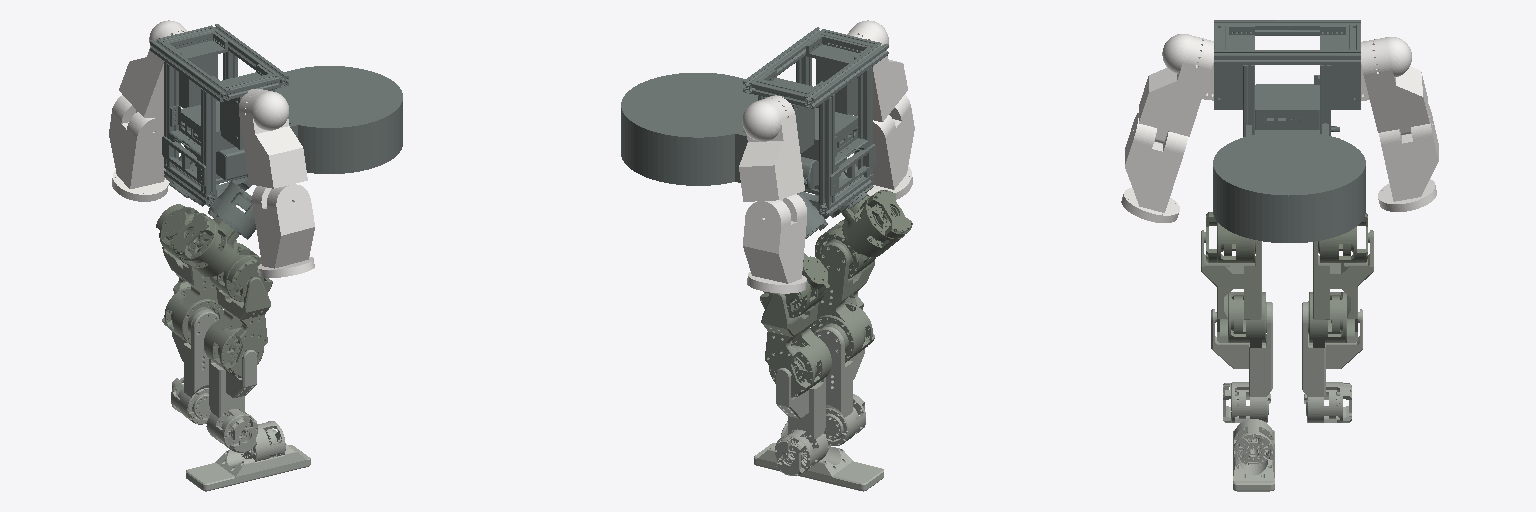
--- Facts derived from the render (not from the file) ---
3 views of the same robot in one strip: view 1: azimuth 30°, elevation 25°; view 2: azimuth 150°, elevation 25°; view 3: azimuth 270°, elevation 25° (orthographic).
Model our_robot_251119 with 26 links and 25 joints (20 revolute, 5 fixed), rooted at base, posed every joint at zero.
Links seen in each view (by area): view 1: base, arm_right_upper_arm, arm_right_fore_arm, leg_right_hip_pitch, leg_right_ankle_roll, arm_left_fore_arm, leg_right_knee_pitch, leg_left_knee_pitch, leg_right_hip_roll, leg_left_hip_pitch, arm_left_upper_arm, leg_right_hip_yaw (+3 smaller); view 2: base, arm_left_upper_arm, arm_left_fore_arm, leg_left_hip_pitch, leg_left_knee_pitch, leg_right_hip_pitch, leg_right_knee_pitch, leg_right_hip_roll, arm_right_fore_arm, leg_right_ankle_roll, arm_right_upper_arm, leg_left_hip_yaw (+2 smaller); view 3: base, arm_right_upper_arm, arm_left_upper_arm, leg_left_hip_pitch, leg_right_hip_pitch, leg_left_knee_pitch, leg_right_knee_pitch, arm_right_fore_arm, arm_left_fore_arm, leg_right_ankle_roll, leg_right_hip_yaw, leg_left_hip_yaw (+2 smaller).
Link boxes in pixels (x1,y1,x2,y2): base: (150,24,402,239); arm_right_upper_arm: (239,89,307,188); arm_right_fore_arm: (252,184,314,268); leg_right_hip_pitch: (204,277,270,377); leg_right_ankle_roll: (186,421,310,491); arm_left_fore_arm: (109,95,165,188); leg_right_knee_pitch: (206,350,257,452); leg_left_knee_pitch: (171,310,218,424); leg_right_hip_roll: (172,213,239,276); leg_left_hip_pitch: (162,247,223,344); arm_left_upper_arm: (119,20,187,117); leg_right_hip_yaw: (210,243,272,301); base: (621,27,888,238); arm_left_upper_arm: (739,95,804,201); arm_left_fore_arm: (743,194,806,283); leg_left_hip_pitch: (761,293,831,397); leg_left_knee_pitch: (775,368,828,475); leg_right_hip_pitch: (810,242,874,362); leg_right_knee_pitch: (816,327,865,445); leg_right_hip_roll: (842,190,912,257); arm_right_fore_arm: (854,95,914,189); leg_right_ankle_roll: (754,421,883,491); arm_right_upper_arm: (847,20,907,121); leg_left_hip_yaw: (760,253,829,317); base: (1213,20,1365,242); arm_right_upper_arm: (1139,34,1213,143); arm_left_upper_arm: (1361,37,1429,134); leg_left_hip_pitch: (1308,230,1373,347); leg_right_hip_pitch: (1201,230,1266,347); leg_left_knee_pitch: (1302,302,1362,422); leg_right_knee_pitch: (1211,302,1272,422); arm_right_fore_arm: (1125,113,1187,212); arm_left_fore_arm: (1379,106,1438,201); leg_right_ankle_roll: (1233,419,1274,491); leg_right_hip_yaw: (1206,212,1255,262); leg_left_hip_yaw: (1318,213,1367,262).
Bounding box of the posed robot: 0.4913 × 0.5397 × 0.7937 m (x, y, z).
17 mesh visuals loaded from 22 distinct referenced files (17 binary STL); not drawn: 5 (reference not matched to a file when rendering).

URDF robot description (our_robot_251119):
<?xml version="1.0" ?>
<!-- Generated using onshape-to-robot -->
<!-- Onshape https://cad.onshape.com/documents/b79563c6b118af5153e16b95/w/07852d0b8411373f3cccadf1/e/af8d9cc5bcfd9d9f97125859 -->
<!-- robot name="my-robot2" -->
<robot name="our_robot_251119">
  <!-- Link base -->
  <link name="base">
    <inertial>
      <origin xyz="0.0301256 0.000805373 0.658389" rpy="0 0 0"/>
      <mass value="4.42875"/>
      <inertia ixx="0.0542572" ixy="-0.000418288" ixz="-0.000518312" iyy="0.0707136" iyz="1.73031e-05" izz="0.0573367"/>
    </inertial>
    <!-- Part base_parts -->
    <collision>
      <origin xyz="-6.93889e-18 7.58942e-18 0.71" rpy="-1.13243e-14 -5.13117e-16 -1.5708"/>
      <geometry>
        <box size="0.15 0.14 0.23"/>
      </geometry>
    </collision>
    <visual>
      <origin xyz="0.0301256 0.000805373 0.658389" rpy="0 -0 0"/>
      <geometry>
        <mesh filename="package://assets/merged/base_visual.stl"/>
      </geometry>
      <material name="base_parts_material">
        <color rgba="0.487065 0.525828 0.516644 0.886298"/>
      </material>
    </visual>
  </link>
  <!-- Frame trunk (dummy link + fixed joint) -->
  <link name="trunk">
    <origin xyz="0 0 0" rpy="0 -0 0"/>
    <inertial>
      <origin xyz="0 0 0" rpy="0 0 0"/>
      <mass value="1e-9"/>
      <inertia ixx="0" ixy="0" ixz="0" iyy="0" iyz="0" izz="0"/>
    </inertial>
  </link>
  <joint name="trunk_frame" type="fixed">
    <origin xyz="-0.00025 2.39394e-17 0.7205" rpy="-5.13117e-16 1.13243e-14 -1.20616e-15"/>
    <parent link="base"/>
    <child link="trunk"/>
    <axis xyz="0 0 0"/>
  </joint>
  <!-- Link imu_2 -->
  <link name="imu_2">
    <inertial>
      <origin xyz="3.03577e-18 9.6171e-19 0.0025" rpy="0 0 0"/>
      <mass value="0.00197704"/>
      <inertia ixx="1.11441e-07" ixy="-4.0275e-38" ixz="0" iyy="4.06118e-08" iyz="0" izz="1.43815e-07"/>
    </inertial>
    <!-- Part imu_2_parts -->
    <visual>
      <origin xyz="0 9.6171e-19 0.0025" rpy="6.12323e-17 -1.13243e-14 1.20616e-15"/>
      <geometry>
        <mesh filename="package://assets/merged/imu_2_visual.stl"/>
      </geometry>
      <material name="imu_2_parts_material">
        <color rgba="0.141176 0.694118 0.65098 1"/>
      </material>
    </visual>
  </link>
  <!-- Frame imu (dummy link + fixed joint) -->
  <link name="imu">
    <origin xyz="0 0 0" rpy="0 -0 0"/>
    <inertial>
      <origin xyz="0 0 0" rpy="0 0 0"/>
      <mass value="1e-9"/>
      <inertia ixx="0" ixy="0" ixz="0" iyy="0" iyz="0" izz="0"/>
    </inertial>
  </link>
  <joint name="imu_frame" type="fixed">
    <origin xyz="0 -6.33816e-19 0.005" rpy="0 -0 -9.54491e-32"/>
    <parent link="imu_2"/>
    <child link="imu"/>
    <axis xyz="0 0 0"/>
  </joint>
  <!-- Joint from base to imu_2 -->
  <joint name="imu" type="fixed">
    <origin xyz="0.061722 -5.97549e-17 0.68" rpy="-6.12323e-17 1.13243e-14 -1.20616e-15"/>
    <parent link="base"/>
    <child link="imu_2"/>
    <axis xyz="0 0 1"/>
    <limit effort="20" velocity="15"/>
    <joint_properties friction="0.1"/>
  </joint>
  <!-- Link leg_left_hip_roll -->
  <link name="leg_left_hip_roll">
    <inertial>
      <origin xyz="-0.00410941 -0.000112596 -0.0464623" rpy="0 0 0"/>
      <mass value="0.83786"/>
      <inertia ixx="0.000979918" ixy="6.45954e-06" ixz="-1.63173e-05" iyy="0.000896043" iyz="-5.43389e-06" izz="0.000727678"/>
    </inertial>
    <!-- Part leg_left_hip_roll_parts -->
    <visual>
      <origin xyz="-0.00410941 -0.000112596 -0.0464623" rpy="-3.37047e-15 -0.785398 1.29382e-14"/>
      <geometry>
        <mesh filename="package://assets/merged/leg_left_hip_roll_visual.stl"/>
      </geometry>
      <material name="leg_left_hip_roll_parts_material">
        <color rgba="0.514202 0.546917 0.498371 0.699497"/>
      </material>
    </visual>
  </link>
  <!-- Link leg_left_hip_yaw -->
  <link name="leg_left_hip_yaw">
    <inertial>
      <origin xyz="-0.00411632 -8.63203e-05 0.0463382" rpy="0 0 0"/>
      <mass value="0.837683"/>
      <inertia ixx="0.000979031" ixy="-1.13217e-06" ixz="1.96352e-05" iyy="0.000898166" iyz="-5.91541e-06" izz="0.000724287"/>
    </inertial>
    <!-- Part leg_left_hip_yaw_parts -->
    <visual>
      <origin xyz="-0.00411632 -8.63203e-05 0.0463382" rpy="-3.14159 -0.785398 -1.5708"/>
      <geometry>
        <mesh filename="package://assets/merged/leg_left_hip_yaw_visual.stl"/>
      </geometry>
      <material name="leg_left_hip_yaw_parts_material">
        <color rgba="0.514113 0.546836 0.49828 0.699434"/>
      </material>
    </visual>
  </link>
  <!-- Link leg_left_hip_pitch -->
  <link name="leg_left_hip_pitch">
    <inertial>
      <origin xyz="0.0030405 0.120388 0.0210924" rpy="0 0 0"/>
      <mass value="0.947974"/>
      <inertia ixx="0.00286449" ixy="0.00012235" ixz="-2.15676e-05" iyy="0.00102465" iyz="0.000265775" izz="0.00259958"/>
    </inertial>
    <!-- Part leg_left_hip_pitch_parts -->
    <collision>
      <origin xyz="0.00597627 0.039 0.0295" rpy="1.5708 1.5708 0"/>
      <geometry>
        <cylinder length="0.13" radius="0.05"/>
      </geometry>
    </collision>
    <visual>
      <origin xyz="0.0030405 0.120388 0.0210924" rpy="1.5708 -7.51238e-15 -6.41154e-15"/>
      <geometry>
        <mesh filename="package://assets/merged/leg_left_hip_pitch_visual.stl"/>
      </geometry>
      <material name="leg_left_hip_pitch_parts_material">
        <color rgba="0.562885 0.5918 0.548895 0.734403"/>
      </material>
    </visual>
  </link>
  <!-- Link leg_left_knee_pitch -->
  <link name="leg_left_knee_pitch">
    <inertial>
      <origin xyz="-4.14041e-05 -0.112249 0.0257397" rpy="0 0 0"/>
      <mass value="0.653864"/>
      <inertia ixx="0.00230126" ixy="-4.24923e-07" ixz="1.36589e-06" iyy="0.000559753" iyz="3.7889e-05" izz="0.00203727"/>
    </inertial>
    <!-- Part leg_left_knee_pitch_parts -->
    <collision>
      <origin xyz="-5.40778e-15 -0.115 0.022" rpy="-1.5708 1.5708 0"/>
      <geometry>
        <cylinder length="0.15" radius="0.04"/>
      </geometry>
    </collision>
    <visual>
      <origin xyz="-4.14041e-05 -0.112249 0.0257397" rpy="1.5708 1.51122e-14 3.14159"/>
      <geometry>
        <mesh filename="package://assets/merged/leg_left_knee_pitch_visual.stl"/>
      </geometry>
      <material name="leg_left_knee_pitch_parts_material">
        <color rgba="0.664553 0.686049 0.654152 0.805901"/>
      </material>
    </visual>
  </link>
  <!-- Link leg_left_ankle_pitch -->
  <link name="leg_left_ankle_pitch">
    <inertial>
      <origin xyz="0.0131065 0.0273743 0.0274153" rpy="0 0 0"/>
      <mass value="0.106196"/>
      <inertia ixx="0.000188241" ixy="-2.50802e-05" ixz="-7.26755e-06" iyy="0.000142962" iyz="-7.72963e-06" izz="8.17202e-05"/>
    </inertial>
    <!-- Part leg_left_ankle_pitch_parts -->
    <visual>
      <origin xyz="0.0131065 0.0273743 0.0274153" rpy="1.5708 -3.63091e-15 -2.10124e-13"/>
      <geometry>
        <mesh filename="package://assets/merged/leg_left_ankle_pitch_visual.stl"/>
      </geometry>
      <material name="leg_left_ankle_pitch_parts_material">
        <color rgba="0.866867 0.866867 0.866867 0.928786"/>
      </material>
    </visual>
  </link>
  <!-- Link leg_left_ankle_roll -->
  <link name="leg_left_ankle_roll">
    <inertial>
      <origin xyz="2.29341e-05 0.0226611 0.0197836" rpy="0 0 0"/>
      <mass value="0.706476"/>
      <inertia ixx="0.00198705" ixy="5.37011e-07" ixz="-8.3949e-07" iyy="0.00190341" iyz="0.000143151" izz="0.000619673"/>
    </inertial>
    <!-- Part leg_left_ankle_roll_parts -->
    <collision>
      <origin xyz="1.45409e-14 0.03 0.006" rpy="1.5708 -1.5787e-13 -6.89171e-14"/>
      <geometry>
        <box size="0.072 0.22 0.04"/>
      </geometry>
    </collision>
    <visual>
      <origin xyz="2.29341e-05 0.0226611 0.0197836" rpy="1.5708 -1.5708 0"/>
      <geometry>
        <mesh filename="package://assets/merged/leg_left_ankle_roll_visual.stl"/>
      </geometry>
      <material name="leg_left_ankle_roll_parts_material">
        <color rgba="0.694564 0.714459 0.684938 0.831061"/>
      </material>
    </visual>
  </link>
  <!-- Frame left_foot (dummy link + fixed joint) -->
  <link name="left_foot">
    <origin xyz="0 0 0" rpy="0 -0 0"/>
    <inertial>
      <origin xyz="0 0 0" rpy="0 0 0"/>
      <mass value="1e-9"/>
      <inertia ixx="0" ixy="0" ixz="0" iyy="0" iyz="0" izz="0"/>
    </inertial>
  </link>
  <joint name="left_foot_frame" type="fixed">
    <origin xyz="1.57444e-14 0.0475 0.006" rpy="1.5708 -1.5708 0"/>
    <parent link="leg_left_ankle_roll"/>
    <child link="left_foot"/>
    <axis xyz="0 0 0"/>
  </joint>
  <!-- Joint from leg_left_ankle_pitch to leg_left_ankle_roll -->
  <joint name="leg_left_ankle_roll_joint" type="revolute">
    <origin xyz="0.03 0.05 0.025" rpy="5.04871e-29 1.5708 0"/>
    <parent link="leg_left_ankle_pitch"/>
    <child link="leg_left_ankle_roll"/>
    <axis xyz="0 0 1"/>
    <limit effort="20" velocity="15" lower="-0.261799" upper="0.261799"/>
    <joint_properties friction="0.1"/>
  </joint>
  <!-- Joint from leg_left_knee_pitch to leg_left_ankle_pitch -->
  <joint name="leg_left_ankle_pitch_joint" type="revolute">
    <origin xyz="-2.42341e-15 -0.16 -0.003" rpy="-1.42161e-14 1.87431e-14 -3.14159"/>
    <parent link="leg_left_knee_pitch"/>
    <child link="leg_left_ankle_pitch"/>
    <axis xyz="0 0 1"/>
    <limit effort="20" velocity="15" lower="-0.785398" upper="0.785398"/>
    <joint_properties friction="0.1"/>
  </joint>
  <!-- Joint from leg_left_hip_pitch to leg_left_knee_pitch -->
  <joint name="leg_left_knee_pitch_joint" type="revolute">
    <origin xyz="4.09395e-16 0.15 -0.018" rpy="-2.06358e-14 2.26246e-14 -3.14159"/>
    <parent link="leg_left_hip_pitch"/>
    <child link="leg_left_knee_pitch"/>
    <axis xyz="0 0 1"/>
    <limit effort="20" velocity="15" lower="-2.63789e-13" upper="2.44346"/>
    <joint_properties friction="0.1"/>
  </joint>
  <!-- Joint from leg_left_hip_yaw to leg_left_hip_pitch -->
  <joint name="leg_left_hip_pitch_joint" type="revolute">
    <origin xyz="0.027 -5.55112e-17 0.052" rpy="1.5708 -0.785398 -1.5708"/>
    <parent link="leg_left_hip_yaw"/>
    <child link="leg_left_hip_pitch"/>
    <axis xyz="0 0 1"/>
    <limit effort="20" velocity="15" lower="-1.89805" upper="0.981748"/>
    <joint_properties friction="0.1"/>
  </joint>
  <!-- Joint from leg_left_hip_roll to leg_left_hip_yaw -->
  <joint name="leg_left_hip_yaw_joint" type="revolute">
    <origin xyz="0.027 9.71445e-17 -0.052" rpy="-1.5708 1.18214e-15 -1.5708"/>
    <parent link="leg_left_hip_roll"/>
    <child link="leg_left_hip_yaw"/>
    <axis xyz="0 0 1"/>
    <limit effort="20" velocity="15" lower="-0.981748" upper="0.589049"/>
    <joint_properties friction="0.1"/>
  </joint>
  <!-- Joint from base to leg_left_hip_roll -->
  <joint name="leg_left_hip_roll_joint" type="revolute">
    <origin xyz="-0.0290919 0.08 0.542631" rpy="5.54477e-16 0.785398 -1.02056e-14"/>
    <parent link="base"/>
    <child link="leg_left_hip_roll"/>
    <axis xyz="0 0 1"/>
    <limit effort="20" velocity="15" lower="-0.174533" upper="1.5708"/>
    <joint_properties friction="0.1"/>
  </joint>
  <!-- Link leg_right_hip_roll -->
  <link name="leg_right_hip_roll">
    <inertial>
      <origin xyz="0.00410941 -0.00018505 -0.0464478" rpy="0 0 0"/>
      <mass value="0.83786"/>
      <inertia ixx="0.000979766" ixy="-3.69135e-06" ixz="1.57667e-05" iyy="0.000896334" iyz="-4.74708e-06" izz="0.000727235"/>
    </inertial>
    <!-- Part leg_right_hip_roll_parts -->
    <visual>
      <origin xyz="0.00410941 -0.00018505 -0.0464478" rpy="-8.73661e-15 -0.785398 -3.14159"/>
      <geometry>
        <mesh filename="package://assets/merged/leg_right_hip_roll_visual.stl"/>
      </geometry>
      <material name="leg_right_hip_roll_parts_material">
        <color rgba="0.514202 0.546917 0.498371 0.699497"/>
      </material>
    </visual>
  </link>
  <!-- Link leg_right_hip_yaw -->
  <link name="leg_right_hip_yaw">
    <inertial>
      <origin xyz="0.00411632 -1.3851e-05 0.0463238" rpy="0 0 0"/>
      <mass value="0.837683"/>
      <inertia ixx="0.000978901" ixy="-1.63559e-06" ixz="-1.90847e-05" iyy="0.000898454" iyz="-5.23378e-06" izz="0.000723868"/>
    </inertial>
    <!-- Part leg_right_hip_yaw_parts -->
    <visual>
      <origin xyz="0.00411632 -1.3851e-05 0.0463238" rpy="3.14159 -0.785398 -1.5708"/>
      <geometry>
        <mesh filename="package://assets/merged/leg_right_hip_yaw_visual.stl"/>
      </geometry>
      <material name="leg_right_hip_yaw_parts_material">
        <color rgba="0.514113 0.546836 0.49828 0.699434"/>
      </material>
    </visual>
  </link>
  <!-- Link leg_right_hip_pitch -->
  <link name="leg_right_hip_pitch">
    <inertial>
      <origin xyz="0.00319928 0.120388 -0.0210924" rpy="0 0 0"/>
      <mass value="0.947974"/>
      <inertia ixx="0.00286448" ixy="0.000117078" ixz="2.6845e-05" iyy="0.00102371" iyz="-0.000265774" izz="0.00259864"/>
    </inertial>
    <!-- Part leg_right_hip_pitch_parts -->
    <collision>
      <origin xyz="0.00597627 0.039 -0.0295" rpy="1.5708 1.5708 0"/>
      <geometry>
        <cylinder length="0.13" radius="0.05"/>
      </geometry>
    </collision>
    <visual>
      <origin xyz="0.00319928 0.120388 -0.0210924" rpy="1.5708 -6.12376e-16 1.36002e-15"/>
      <geometry>
        <mesh filename="package://assets/merged/leg_right_hip_pitch_visual.stl"/>
      </geometry>
      <material name="leg_right_hip_pitch_parts_material">
        <color rgba="0.562885 0.5918 0.548895 0.734403"/>
      </material>
    </visual>
  </link>
  <!-- Link leg_right_knee_pitch -->
  <link name="leg_right_knee_pitch">
    <inertial>
      <origin xyz="-5.09429e-05 0.112249 -0.0257397" rpy="0 0 0"/>
      <mass value="0.653864"/>
      <inertia ixx="0.00230126" ixy="1.34936e-06" ixz="-1.17826e-06" iyy="0.000559752" iyz="3.7889e-05" izz="0.00203727"/>
    </inertial>
    <!-- Part leg_right_knee_pitch_parts -->
    <collision>
      <origin xyz="1.15304e-14 0.115 -0.022" rpy="1.5708 1.5708 0"/>
      <geometry>
        <cylinder length="0.15" radius="0.04"/>
      </geometry>
    </collision>
    <visual>
      <origin xyz="-5.09429e-05 0.112249 -0.0257397" rpy="1.5708 -3.96107e-15 2.66454e-15"/>
      <geometry>
        <mesh filename="package://assets/merged/leg_right_knee_pitch_visual.stl"/>
      </geometry>
      <material name="leg_right_knee_pitch_parts_material">
        <color rgba="0.664553 0.686049 0.654152 0.805901"/>
      </material>
    </visual>
  </link>
  <!-- Link leg_right_ankle_pitch -->
  <link name="leg_right_ankle_pitch">
    <inertial>
      <origin xyz="0.0131065 0.0273743 -0.0274153" rpy="0 0 0"/>
      <mass value="0.106196"/>
      <inertia ixx="0.000188241" ixy="-2.50802e-05" ixz="7.26754e-06" iyy="0.000142962" iyz="7.72962e-06" izz="8.17203e-05"/>
    </inertial>
    <!-- Part leg_right_ankle_pitch_parts -->
    <visual>
      <origin xyz="0.0131065 0.0273743 -0.0274153" rpy="1.5708 -1.46608e-14 9.60065e-14"/>
      <geometry>
        <mesh filename="package://assets/merged/leg_right_ankle_pitch_visual.stl"/>
      </geometry>
      <material name="leg_right_ankle_pitch_parts_material">
        <color rgba="0.866867 0.866867 0.866867 0.928786"/>
      </material>
    </visual>
  </link>
  <!-- Link leg_right_ankle_roll -->
  <link name="leg_right_ankle_roll">
    <inertial>
      <origin xyz="2.29341e-05 0.0226611 0.0197836" rpy="0 0 0"/>
      <mass value="0.706476"/>
      <inertia ixx="0.00198705" ixy="5.37011e-07" ixz="-8.3949e-07" iyy="0.00190341" iyz="0.000143151" izz="0.000619673"/>
    </inertial>
    <!-- Part leg_right_ankle_roll_parts -->
    <collision>
      <origin xyz="5.16957e-15 0.03 0.006" rpy="1.5708 5.10932e-13 -1.95972e-13"/>
      <geometry>
        <box size="0.072 0.22 0.04"/>
      </geometry>
    </collision>
    <visual>
      <origin xyz="2.29341e-05 0.0226611 0.0197836" rpy="1.5708 -1.5708 0"/>
      <geometry>
        <mesh filename="package://assets/merged/leg_right_ankle_roll_visual.stl"/>
      </geometry>
      <material name="leg_right_ankle_roll_parts_material">
        <color rgba="0.694564 0.714459 0.684938 0.831061"/>
      </material>
    </visual>
  </link>
  <!-- Frame right_foot (dummy link + fixed joint) -->
  <link name="right_foot">
    <origin xyz="0 0 0" rpy="0 -0 0"/>
    <inertial>
      <origin xyz="0 0 0" rpy="0 0 0"/>
      <mass value="1e-9"/>
      <inertia ixx="0" ixy="0" ixz="0" iyy="0" iyz="0" izz="0"/>
    </inertial>
  </link>
  <joint name="right_foot_frame" type="fixed">
    <origin xyz="8.59729e-15 0.0475 0.006" rpy="1.5708 -1.5708 0"/>
    <parent link="leg_right_ankle_roll"/>
    <child link="right_foot"/>
    <axis xyz="0 0 0"/>
  </joint>
  <!-- Joint from leg_right_ankle_pitch to leg_right_ankle_roll -->
  <joint name="leg_right_ankle_roll_joint" type="revolute">
    <origin xyz="0.03 0.05 -0.025" rpy="-6.80837e-17 1.5708 0"/>
    <parent link="leg_right_ankle_pitch"/>
    <child link="leg_right_ankle_roll"/>
    <axis xyz="0 0 1"/>
    <limit effort="20" velocity="15" lower="-0.261799" upper="0.261799"/>
    <joint_properties friction="0.1"/>
  </joint>
  <!-- Joint from leg_right_knee_pitch to leg_right_ankle_pitch -->
  <joint name="leg_right_ankle_pitch_joint" type="revolute">
    <origin xyz="1.37911e-15 0.16 0.003" rpy="1.12133e-14 1.06998e-14 -9.3342e-14"/>
    <parent link="leg_right_knee_pitch"/>
    <child link="leg_right_ankle_pitch"/>
    <axis xyz="0 0 1"/>
    <limit effort="20" velocity="15" lower="-0.785398" upper="0.785398"/>
    <joint_properties friction="0.1"/>
  </joint>
  <!-- Joint from leg_right_hip_pitch to leg_right_knee_pitch -->
  <joint name="leg_right_knee_pitch_joint" type="revolute">
    <origin xyz="-2.77556e-17 0.15 0.018" rpy="3.28904e-15 3.34869e-15 -1.30451e-15"/>
    <parent link="leg_right_hip_pitch"/>
    <child link="leg_right_knee_pitch"/>
    <axis xyz="0 0 1"/>
    <limit effort="20" velocity="15" lower="-1.1191e-13" upper="2.44346"/>
    <joint_properties friction="0.1"/>
  </joint>
  <!-- Joint from leg_right_hip_yaw to leg_right_hip_pitch -->
  <joint name="leg_right_hip_pitch_joint" type="revolute">
    <origin xyz="-0.027 1.22125e-15 0.052" rpy="1.5708 -0.785398 -1.5708"/>
    <parent link="leg_right_hip_yaw"/>
    <child link="leg_right_hip_pitch"/>
    <axis xyz="0 0 1"/>
    <limit effort="20" velocity="15" lower="-1.89805" upper="0.981748"/>
    <joint_properties friction="0.1"/>
  </joint>
  <!-- Joint from leg_right_hip_roll to leg_right_hip_yaw -->
  <joint name="leg_right_hip_yaw_joint" type="revolute">
    <origin xyz="-0.027 3.46945e-16 -0.052" rpy="-1.5708 2.67807e-15 1.5708"/>
    <parent link="leg_right_hip_roll"/>
    <child link="leg_right_hip_yaw"/>
    <axis xyz="0 0 1"/>
    <limit effort="20" velocity="15" lower="-0.589049" upper="0.981748"/>
    <joint_properties friction="0.1"/>
  </joint>
  <!-- Joint from base to leg_right_hip_roll -->
  <joint name="leg_right_hip_roll_joint" type="revolute">
    <origin xyz="-0.0290919 -0.08 0.542631" rpy="7.85621e-15 -0.785398 3.14159"/>
    <parent link="base"/>
    <child link="leg_right_hip_roll"/>
    <axis xyz="0 0 1"/>
    <limit effort="20" velocity="15" lower="-1.5708" upper="0.174533"/>
    <joint_properties friction="0.1"/>
  </joint>
  <!-- Link arm_left_elbow_arm -->
  <link name="arm_left_elbow_arm">
    <inertial>
      <origin xyz="0.00295199 0.0323979 -0.02" rpy="0 0 0"/>
      <mass value="0.228815"/>
      <inertia ixx="0.000153136" ixy="3.45508e-05" ixz="-2.00279e-12" iyy="0.000137214" iyz="2.40485e-12" izz="0.000236059"/>
    </inertial>
    <!-- Part arm_left_elbow_arm_parts -->
    <visual>
      <origin xyz="0.00295199 0.0323979 -0.02" rpy="1.5708 1.5708 0"/>
      <geometry>
        <mesh filename="package://assets/merged/arm_left_elbow_arm_visual.stl"/>
      </geometry>
      <material name="arm_left_elbow_arm_parts_material">
        <color rgba="0.945098 0.937255 0.92549 1"/>
      </material>
    </visual>
  </link>
  <!-- Link arm_left_upper_arm -->
  <link name="arm_left_upper_arm">
    <inertial>
      <origin xyz="-0.0153476 -0.0580949 0.00921178" rpy="0 0 0"/>
      <mass value="1.0413"/>
      <inertia ixx="0.00276964" ixy="-0.000465666" ixz="-3.8589e-05" iyy="0.00112883" iyz="-0.000146309" izz="0.00269339"/>
    </inertial>
    <!-- Part arm_left_upper_arm_parts -->
    <visual>
      <origin xyz="-0.0153476 -0.0580949 0.00921178" rpy="-1.76662 1.18857e-15 1.14084e-14"/>
      <geometry>
        <mesh filename="package://assets/merged/arm_left_upper_arm_visual.stl"/>
      </geometry>
      <material name="arm_left_upper_arm_parts_material">
        <color rgba="0.945098 0.937255 0.92549 1"/>
      </material>
    </visual>
  </link>
  <!-- Link arm_left_fore_arm -->
  <link name="arm_left_fore_arm">
    <inertial>
      <origin xyz="-0.0104536 -0.0421529 -0.0136404" rpy="0 0 0"/>
      <mass value="0.908672"/>
      <inertia ixx="0.00182758" ixy="-0.000215231" ixz="-4.01239e-05" iyy="0.00101306" iyz="-0.000161795" izz="0.00164558"/>
    </inertial>
    <!-- Part arm_left_fore_arm_parts -->
    <visual>
      <origin xyz="-0.0104536 -0.0421529 -0.0136404" rpy="1.37498 -6.32984e-16 2.88337"/>
      <geometry>
        <mesh filename="package://assets/merged/arm_left_fore_arm_visual.stl"/>
      </geometry>
      <material name="arm_left_fore_arm_parts_material">
        <color rgba="0.945098 0.937255 0.92549 1"/>
      </material>
    </visual>
  </link>
  <!-- Link arm_left_wrist_attachment -->
  <link name="arm_left_wrist_attachment">
    <inertial>
      <origin xyz="-2.6409e-18 -1.4291e-16 -0.0349839" rpy="0 0 0"/>
      <mass value="0.16461"/>
      <inertia ixx="0.000104489" ixy="-1.44419e-19" ixz="2.48816e-19" iyy="0.000104489" iyz="-2.06676e-19" izz="0.000184181"/>
    </inertial>
    <!-- Part arm_left_wrist_attachment_parts -->
    <visual>
      <origin xyz="0 -1.66533e-16 -0.0349839" rpy="-0.195821 -0.0151392 1.10324e-15"/>
      <geometry>
        <mesh filename="package://assets/merged/arm_left_wrist_attachment_visual.stl"/>
      </geometry>
      <material name="arm_left_wrist_attachment_parts_material">
        <color rgba="0.945098 0.937255 0.92549 1"/>
      </material>
    </visual>
  </link>
  <!-- Joint from arm_left_fore_arm to arm_left_wrist_attachment -->
  <joint name="left_wrist_attachment_joint" type="revolute">
    <origin xyz="-0.0205185 -0.0827384 -0.0325" rpy="1.5708 4.15466e-16 2.8985"/>
    <parent link="arm_left_fore_arm"/>
    <child link="arm_left_wrist_attachment"/>
    <axis xyz="0 0 1"/>
    <limit effort="20" velocity="15" lower="-3.12398" upper="0.0176112"/>
    <joint_properties friction="0.1"/>
  </joint>
  <!-- Joint from arm_left_upper_arm to arm_left_fore_arm -->
  <joint name="left_fore_arm_joint" type="revolute">
    <origin xyz="-0.0408587 -0.154695 -0.005" rpy="-3.14159 7.07767e-16 2.88337"/>
    <parent link="arm_left_upper_arm"/>
    <child link="arm_left_fore_arm"/>
    <axis xyz="0 0 1"/>
    <limit effort="20" velocity="15" lower="-1.32771" upper="1.81388"/>
    <joint_properties friction="0.1"/>
  </joint>
  <!-- Joint from arm_left_elbow_arm to arm_left_upper_arm -->
  <joint name="left_upper_arm_joint" type="revolute">
    <origin xyz="0.0622583 0.00549121 -0.02" rpy="-2.94577 1.5708 0"/>
    <parent link="arm_left_elbow_arm"/>
    <child link="arm_left_upper_arm"/>
    <axis xyz="0 0 1"/>
    <limit effort="20" velocity="15" lower="-1.31257" upper="1.82902"/>
    <joint_properties friction="0.1"/>
  </joint>
  <!-- Joint from base to arm_left_elbow_arm -->
  <joint name="left_shoulder_joint" type="revolute">
    <origin xyz="-0.02 0.115 0.7985" rpy="-1.5708 1.9082e-16 1.5708"/>
    <parent link="base"/>
    <child link="arm_left_elbow_arm"/>
    <axis xyz="0 0 1"/>
    <limit effort="20" velocity="15" lower="-1.54951" upper="0.195821"/>
    <joint_properties friction="0.1"/>
  </joint>
  <!-- Link arm_right_elbow_arm -->
  <link name="arm_right_elbow_arm">
    <inertial>
      <origin xyz="0.00589319 0.0319938 -0.02" rpy="0 0 0"/>
      <mass value="0.228815"/>
      <inertia ixx="0.000159277" ixy="3.25311e-05" ixz="-1.10787e-12" iyy="0.000131073" iyz="1.15951e-12" izz="0.000236059"/>
    </inertial>
    <!-- Part arm_right_elbow_arm_parts -->
    <visual>
      <origin xyz="0.00589319 0.0319938 -0.02" rpy="1.5708 -1.5708 0"/>
      <geometry>
        <mesh filename="package://assets/merged/arm_right_elbow_arm_visual.stl"/>
      </geometry>
      <material name="arm_right_elbow_arm_parts_material">
        <color rgba="0.945098 0.937255 0.92549 1"/>
      </material>
    </visual>
  </link>
  <!-- Link arm_right_upper_arm -->
  <link name="arm_right_upper_arm">
    <inertial>
      <origin xyz="7.16798e-05 0.060088 0.00921181" rpy="0 0 0"/>
      <mass value="1.0413"/>
      <inertia ixx="0.00289257" ixy="-2.53577e-06" ixz="2.4135e-07" iyy="0.00100588" iyz="0.000151316" izz="0.00269338"/>
    </inertial>
    <!-- Part arm_right_upper_arm_parts -->
    <visual>
      <origin xyz="7.16798e-05 0.060088 0.00921181" rpy="1.85791 2.92208e-15 -1.09448e-14"/>
      <geometry>
        <mesh filename="package://assets/merged/arm_right_upper_arm_visual.stl"/>
      </geometry>
      <material name="arm_right_upper_arm_parts_material">
        <color rgba="0.945098 0.937255 0.92549 1"/>
      </material>
    </visual>
  </link>
  <!-- Link arm_right_fore_arm -->
  <link name="arm_right_fore_arm">
    <inertial>
      <origin xyz="0.000727565 -0.0434237 0.00635958" rpy="0 0 0"/>
      <mass value="0.908672"/>
      <inertia ixx="0.0018807" ixy="1.54315e-05" ixz="2.7926e-06" iyy="0.000959946" iyz="-0.000166672" izz="0.00164558"/>
    </inertial>
    <!-- Part arm_right_fore_arm_parts -->
    <visual>
      <origin xyz="0.000727565 -0.0434237 0.00635958" rpy="-1.28369 -4.33787e-15 -0.00124601"/>
      <geometry>
        <mesh filename="package://assets/merged/arm_right_fore_arm_visual.stl"/>
      </geometry>
      <material name="arm_right_fore_arm_parts_material">
        <color rgba="0.945098 0.937255 0.92549 1"/>
      </material>
    </visual>
  </link>
  <!-- Link arm_right_wrist_attachement -->
  <link name="arm_right_wrist_attachement">
    <inertial>
      <origin xyz="-6.6696e-17 -1.57198e-17 -0.0349839" rpy="0 0 0"/>
      <mass value="0.16461"/>
      <inertia ixx="0.000104489" ixy="-8.57833e-19" ixz="4.29657e-19" iyy="0.000104489" iyz="-2.76472e-18" izz="0.000184181"/>
    </inertial>
    <!-- Part arm_right_wrist_attachement_parts -->
    <visual>
      <origin xyz="-6.76542e-17 0 -0.0349839" rpy="0.287111 0.0179994 -1.02465e-14"/>
      <geometry>
        <mesh filename="package://assets/merged/arm_right_wrist_attachement_visual.stl"/>
      </geometry>
      <material name="arm_right_wrist_attachement_parts_material">
        <color rgba="0.945098 0.937255 0.92549 1"/>
      </material>
    </visual>
  </link>
  <!-- Joint from arm_right_fore_arm to arm_right_wrist_attachement -->
  <joint name="right_wrist_attachment_joint" type="revolute">
    <origin xyz="0.00149099 -0.0889875 -0.0125" rpy="-1.5708 6.34822e-15 0.0167534"/>
    <parent link="arm_right_fore_arm"/>
    <child link="arm_right_wrist_attachement"/>
    <axis xyz="0 0 1"/>
    <limit effort="20" velocity="15" lower="-0.00190945" upper="3.13968"/>
    <joint_properties friction="0.1"/>
  </joint>
  <!-- Joint from arm_right_upper_arm to arm_right_fore_arm -->
  <joint name="right_fore_arm_joint" type="revolute">
    <origin xyz="0.000199361 0.16 0.015" rpy="-3.14159 -1.40751e-15 -0.00124601"/>
    <parent link="arm_right_upper_arm"/>
    <child link="arm_right_fore_arm"/>
    <axis xyz="0 0 1"/>
    <limit effort="20" velocity="15" lower="-1.58755" upper="1.55404"/>
    <joint_properties friction="0.1"/>
  </joint>
  <!-- Joint from arm_right_elbow_arm to arm_right_upper_arm -->
  <joint name="right_upper_arm_joint" type="revolute">
    <origin xyz="0.0624997 -0.000207312 -0.02" rpy="-0.287111 -1.5708 0"/>
    <parent link="arm_right_elbow_arm"/>
    <child link="arm_right_upper_arm"/>
    <axis xyz="0 0 1"/>
    <limit effort="20" velocity="15" lower="-1.56955" upper="1.57204"/>
    <joint_properties friction="0.1"/>
  </joint>
  <!-- Joint from base to arm_right_elbow_arm -->
  <joint name="right_shoulder_joint" type="revolute">
    <origin xyz="0.02 -0.115 0.7985" rpy="-1.5708 -6.10696e-16 -1.5708"/>
    <parent link="base"/>
    <child link="arm_right_elbow_arm"/>
    <axis xyz="0 0 1"/>
    <limit effort="20" velocity="15" lower="-1.45822" upper="0.287111"/>
    <joint_properties friction="0.1"/>
  </joint>
</robot>
